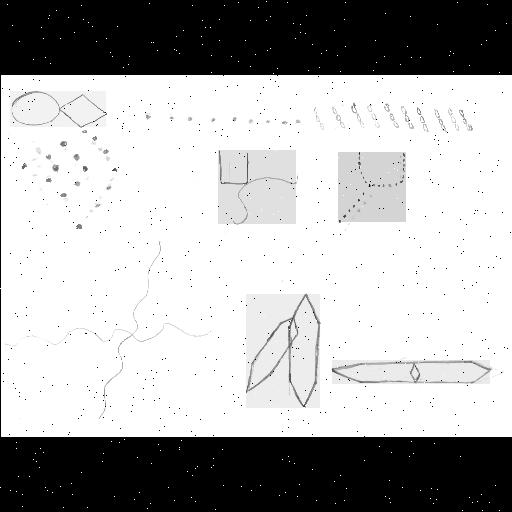shape-1: (10, 91, 106, 127)
shape-2: (142, 112, 300, 126)
shape-3: (315, 106, 471, 132)
shape-4: (22, 130, 116, 228)
shape-5: (218, 150, 296, 224)
shape-6: (338, 152, 406, 222)
shape-7: (6, 242, 210, 416)
shape-8: (246, 294, 320, 408)
shape-9: (332, 360, 490, 384)
